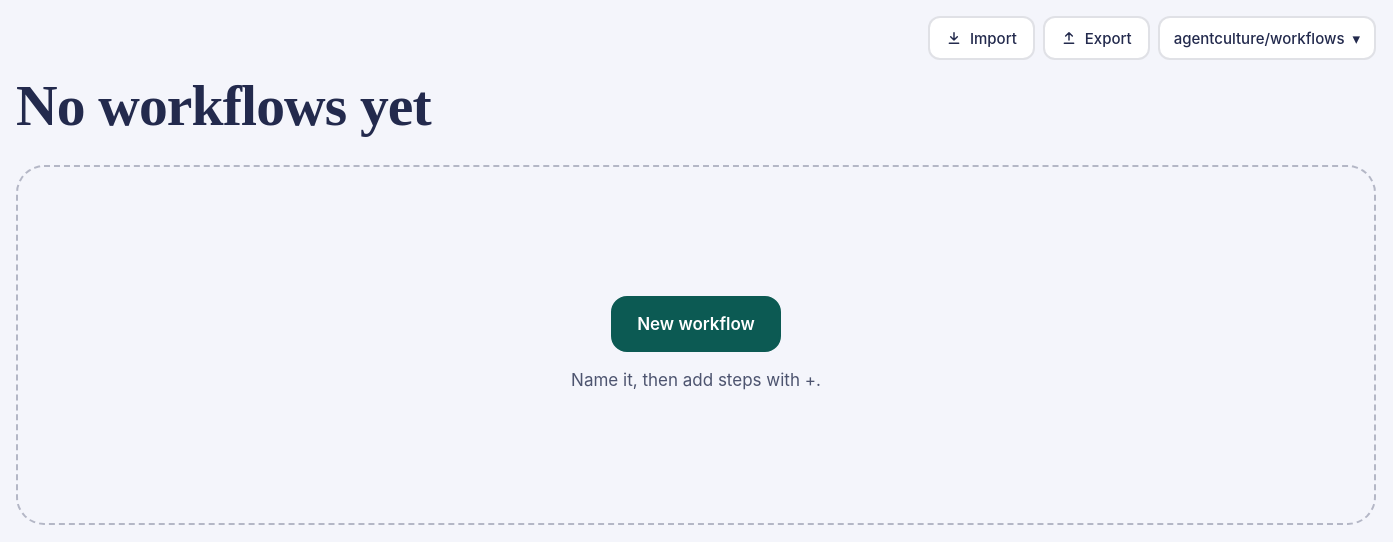
Scenario: Workflows tab: New workflow (empty state) › shows an API validation error inline and keeps the form open
Click the button "New workflow": (696, 324) top-left (611, 296), bottom-right (781, 352)
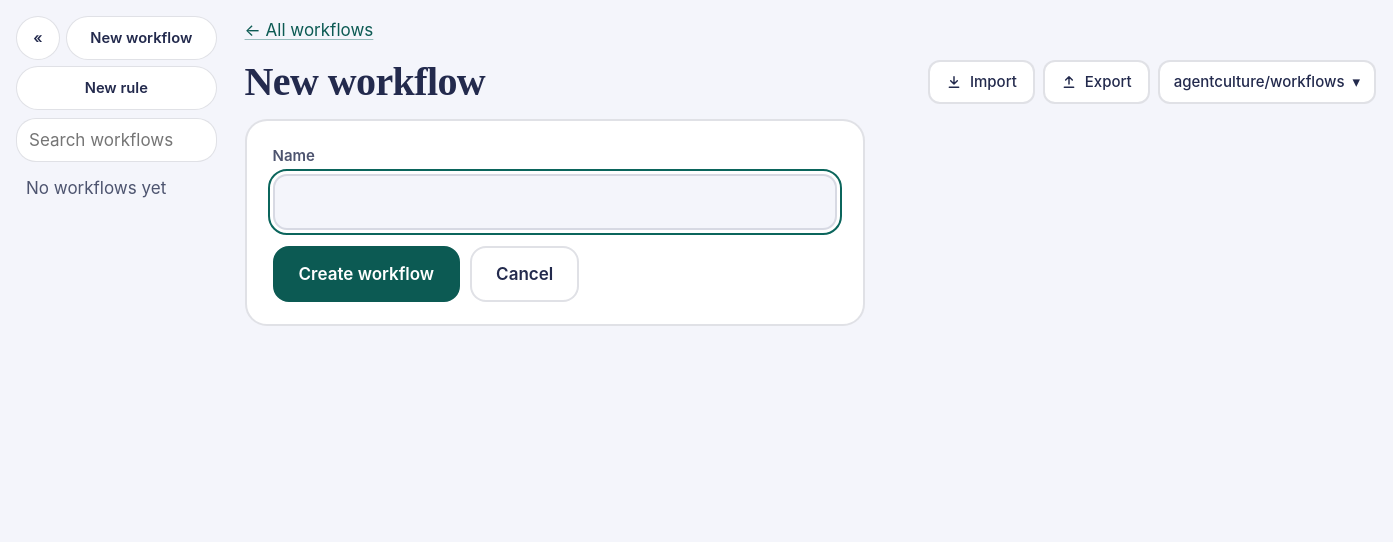
In the field labelled "Name": (555, 202) top-left (273, 174), bottom-right (837, 230), type "Too long"
Then press Enter
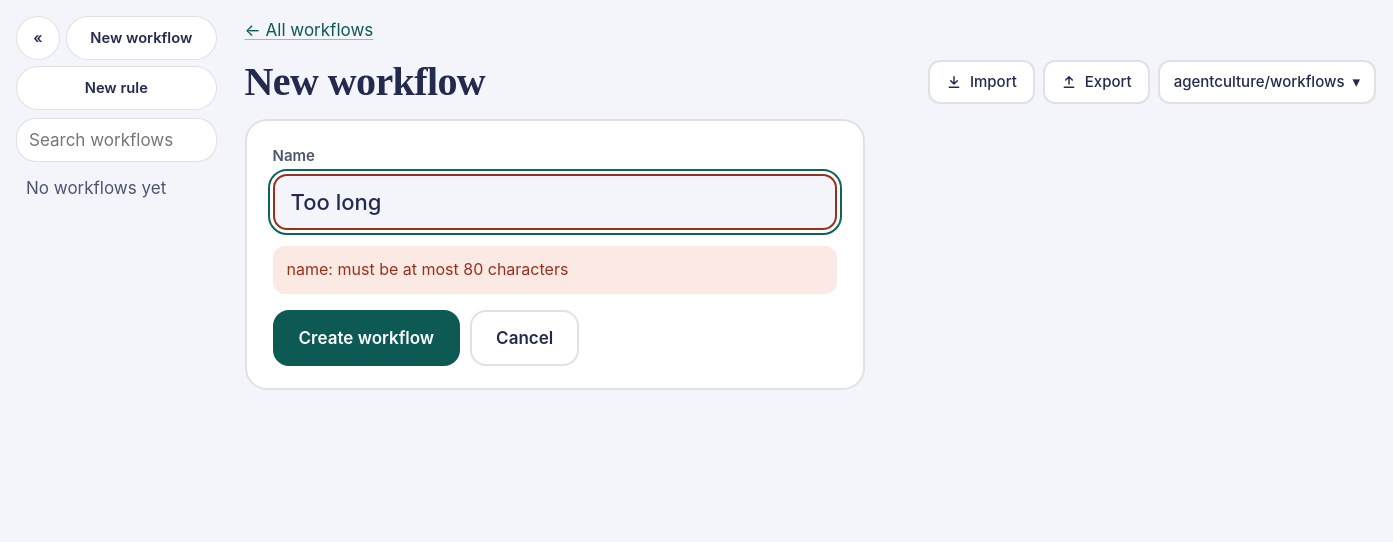
expect the message reads "name: must be at most 80 characters": met, box top-left (287, 259), bottom-right (568, 279)
